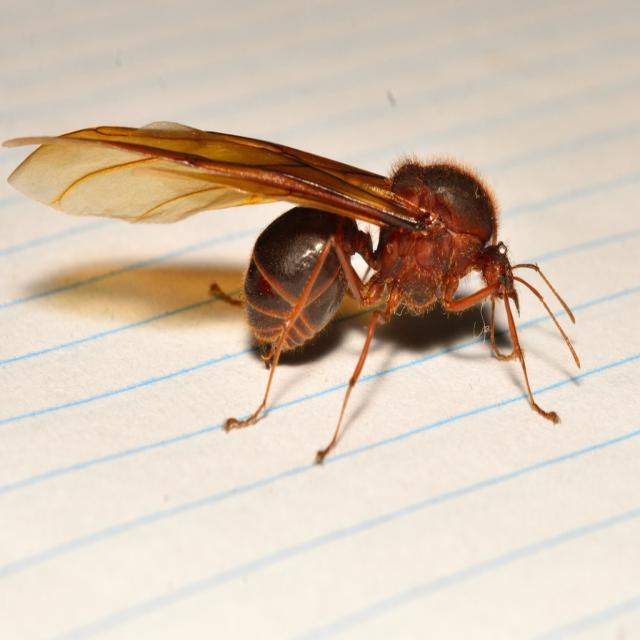Alive-Male-Alate: (1, 121, 581, 466)
